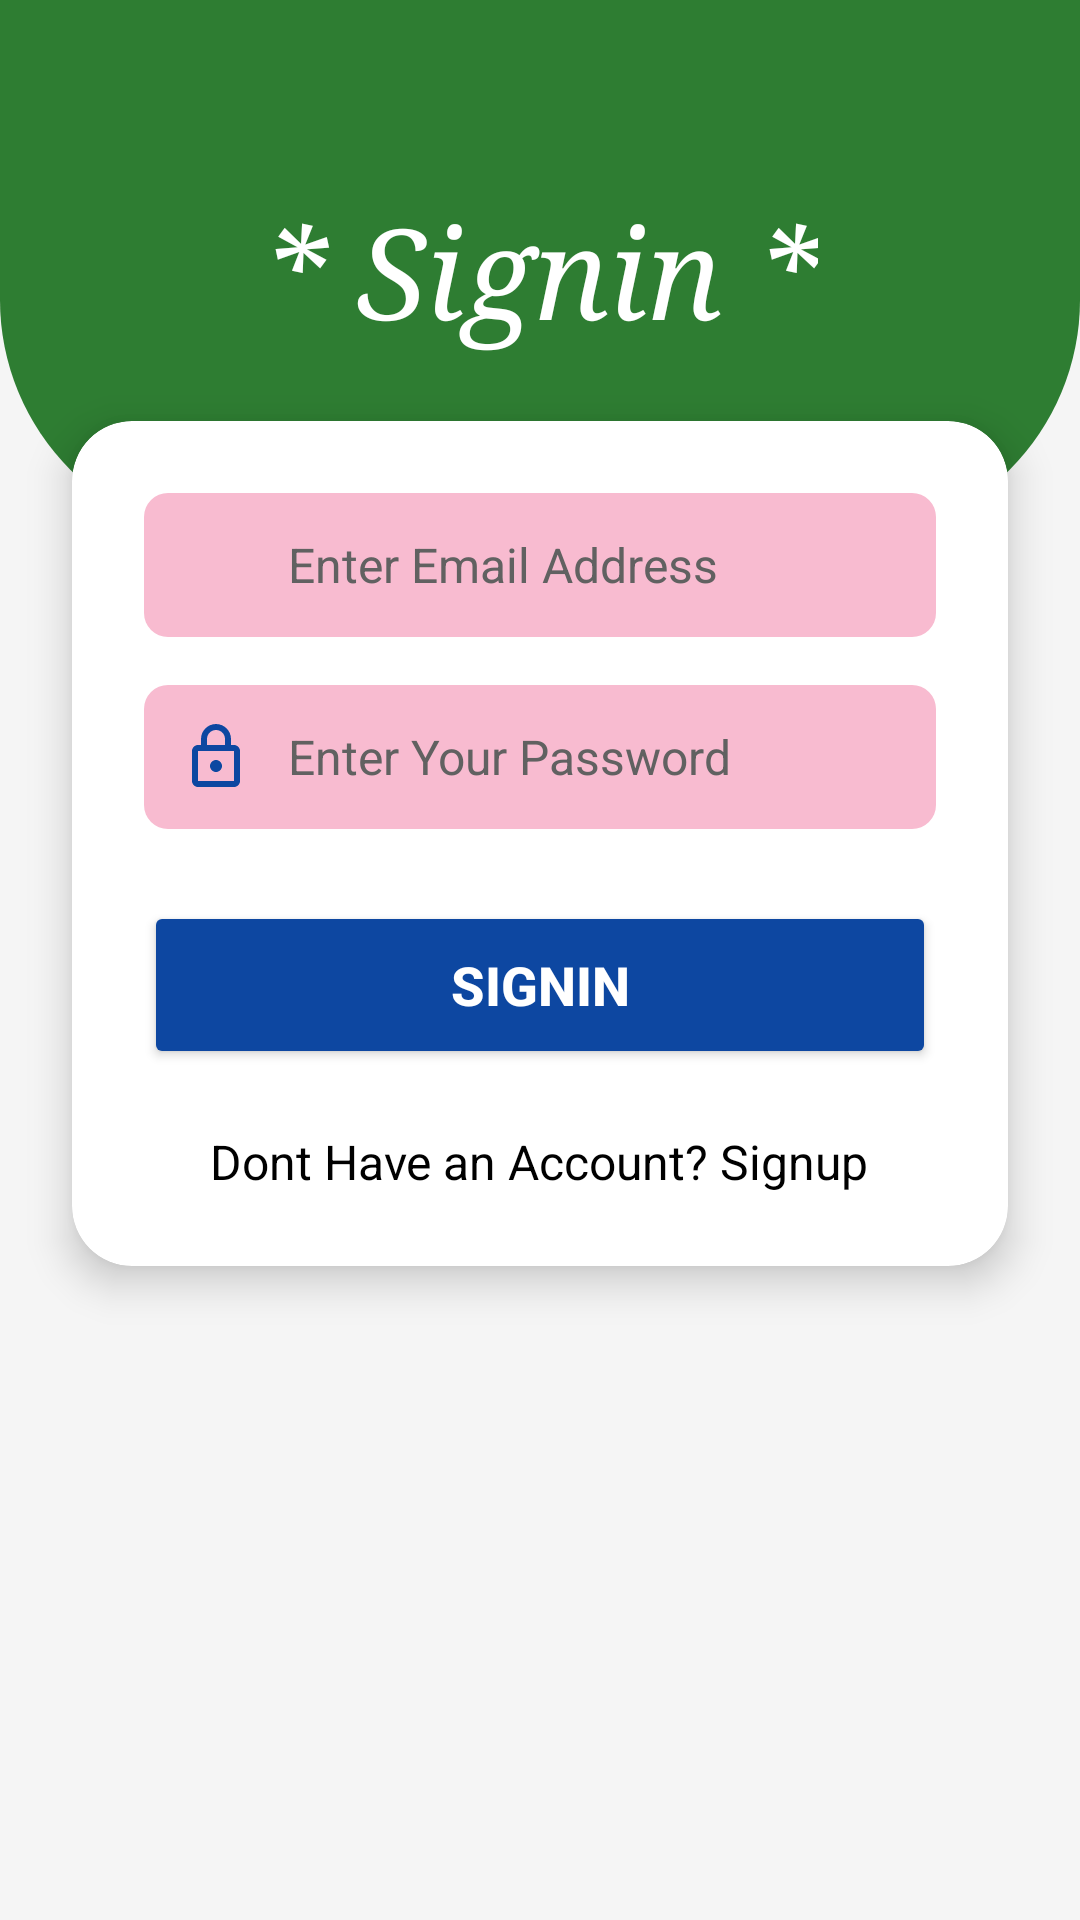

Icons on this 1080px×1920px Android screen, each with the point to tap as (x,y):
Lock Icon: (216,755)
